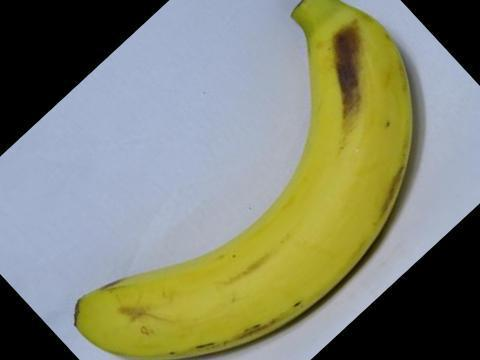freshripe: (64, 0, 439, 359)
